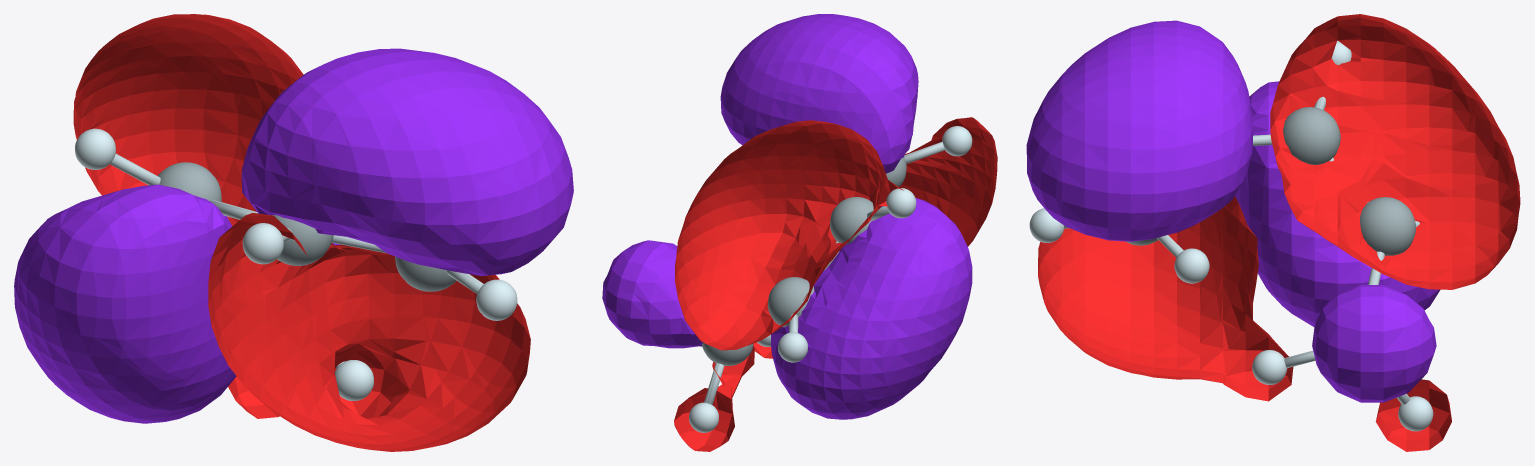
3 views of the same model, side by side, from view 1: azimuth 30°, elevation 25°; view 2: azimuth 150°, elevation 25°; view 3: azimuth 270°, elevation 25° (orthographic). The views are drawn at different scales.
Parts seen in each view (by area): view 1: Renderer Node; view 2: Renderer Node; view 3: Renderer Node.
Boxes of the visible parts, x1,y1,x2,y2 form: Renderer Node: (14,14,573,451); Renderer Node: (602,14,997,451); Renderer Node: (1026,14,1520,451).
Bounding box in the file's own units: 4.92 × 5.02 × 5.61.
